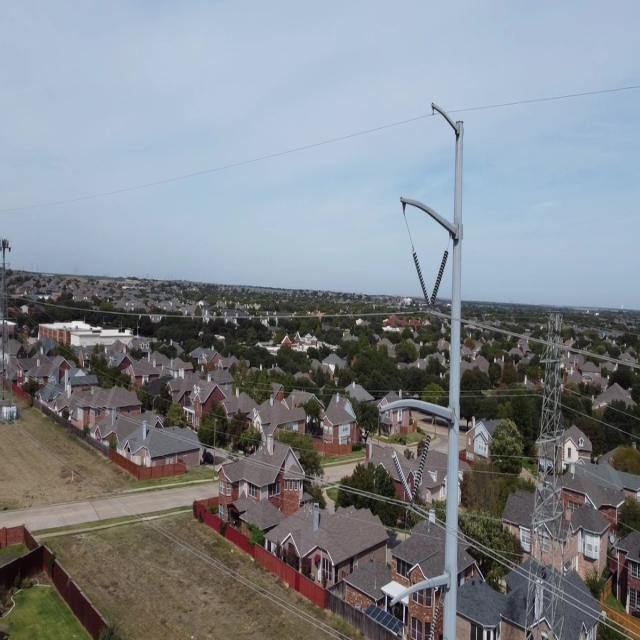杆塔: (521, 306, 570, 640), (0, 236, 19, 417)
正常绝缘子: (410, 434, 433, 503), (411, 247, 433, 310), (428, 249, 450, 310), (391, 449, 414, 504), (427, 605, 441, 640), (532, 442, 539, 484), (535, 359, 544, 391), (528, 526, 534, 561), (561, 433, 566, 466)
